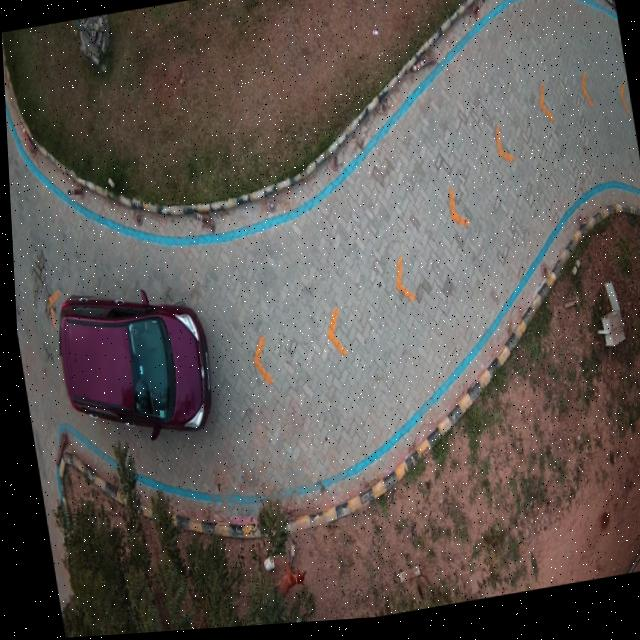car: (55, 296, 206, 442)
